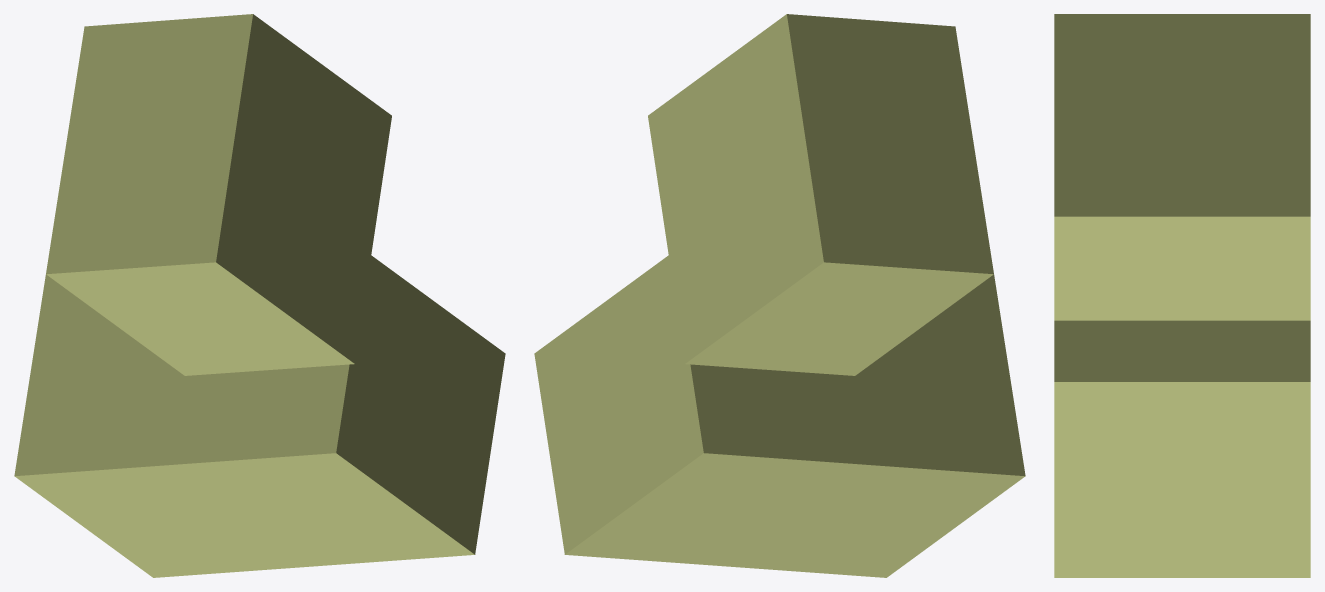
3 renders of one model, left to right at view 1: azimuth 30°, elevation 25°; view 2: azimuth 150°, elevation 25°; view 3: azimuth 270°, elevation 25°, orthographic. The views are drawn at different scales.
Parts seen in each view (by area): view 1: 0_3_2_2_3_0_0_0_0_2_1; view 2: 0_3_2_2_3_0_0_0_0_2_1; view 3: 0_3_2_2_3_0_0_0_0_2_1.
Part boxes in pixels (left/top/right/bottom): 0_3_2_2_3_0_0_0_0_2_1: left=14, top=14, right=505, bottom=577; 0_3_2_2_3_0_0_0_0_2_1: left=534, top=14, right=1025, bottom=577; 0_3_2_2_3_0_0_0_0_2_1: left=1054, top=14, right=1310, bottom=577.
Size of the model in its own units: 8.78 by 11.62 by 6.
